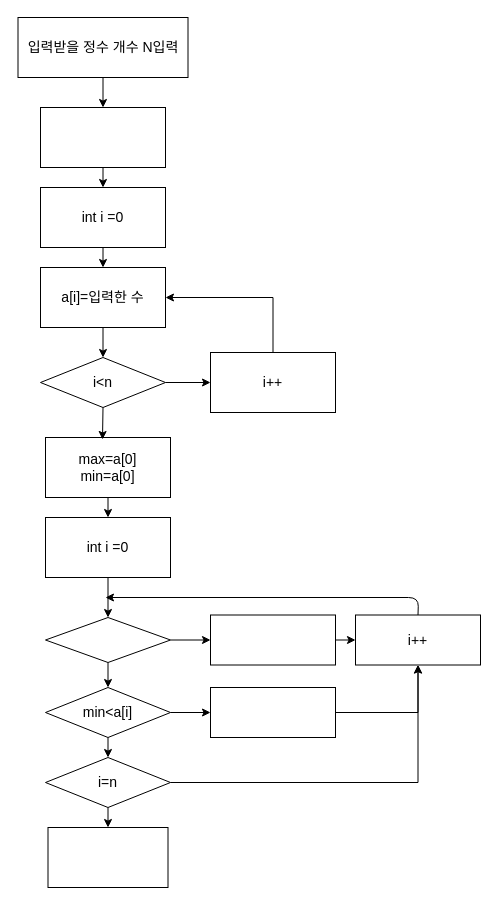
This 498x905 diagram has some shape labels left out. The shapes that lost their labels are listed below. From the top down, each one's centre as x and y in pixels, then its label:
[103,137]: int[] a=new int[n]
[107,639]: max>a[i]
[273,639]: max=a[i]
[273,712]: min=a[i]
[107,857]: 최대값은 max 최소값은 min
